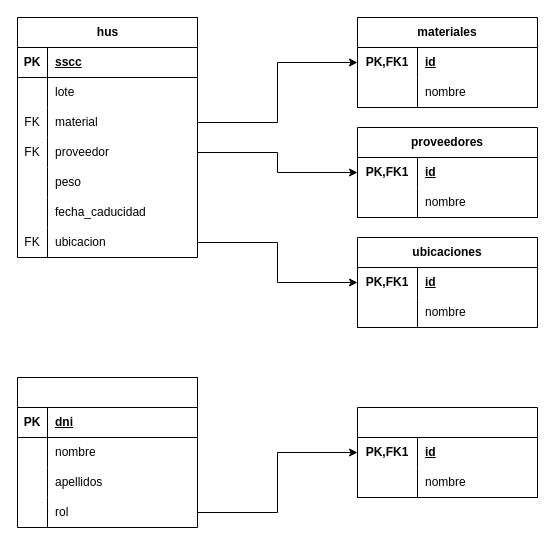
Image size: 555x545. Some labels were removed from this diagram. The box of each missing label's shape, as (x1, y1, x2, y2) in pixels:
roles: (356, 406, 538, 498)
usuarios: (16, 376, 198, 528)
